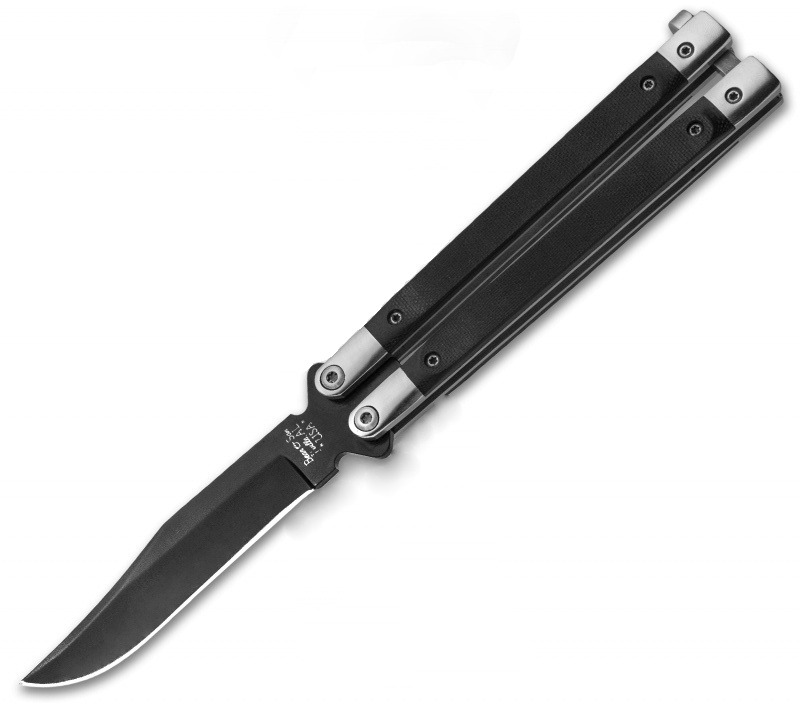knife: (14, 8, 784, 688)
